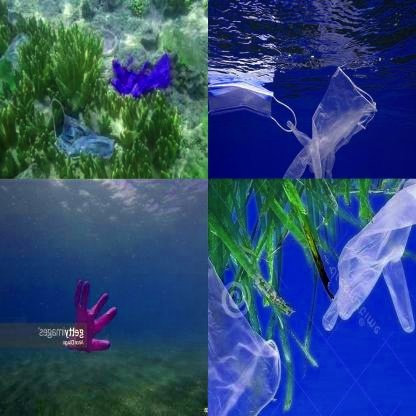Mask: (208, 83, 294, 141), (48, 100, 120, 158)
glove: (208, 178, 280, 416), (320, 178, 416, 334), (277, 64, 379, 178), (64, 280, 117, 359), (106, 51, 170, 106)
